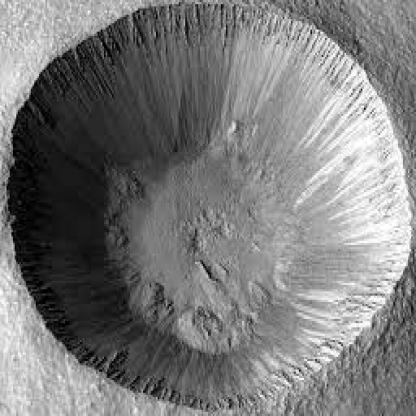craters: (7, 8, 413, 395), (194, 254, 236, 296)
